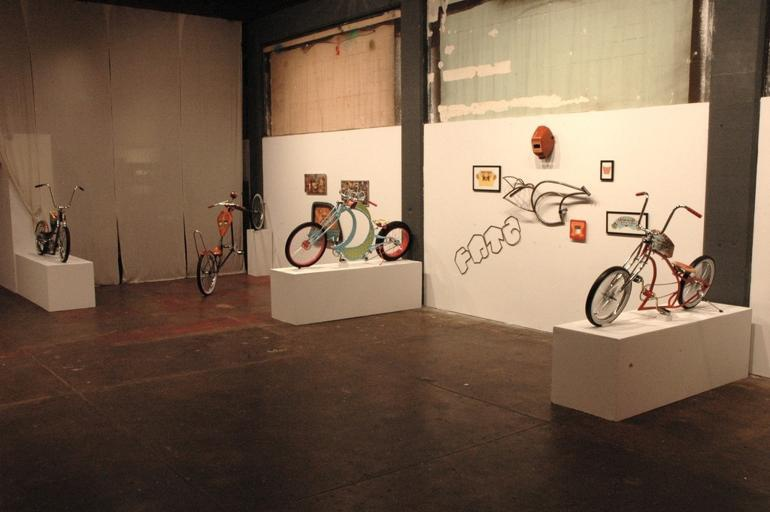non-vehicle: (582, 190, 729, 327), (284, 187, 412, 267), (193, 189, 266, 298), (34, 182, 86, 263)
